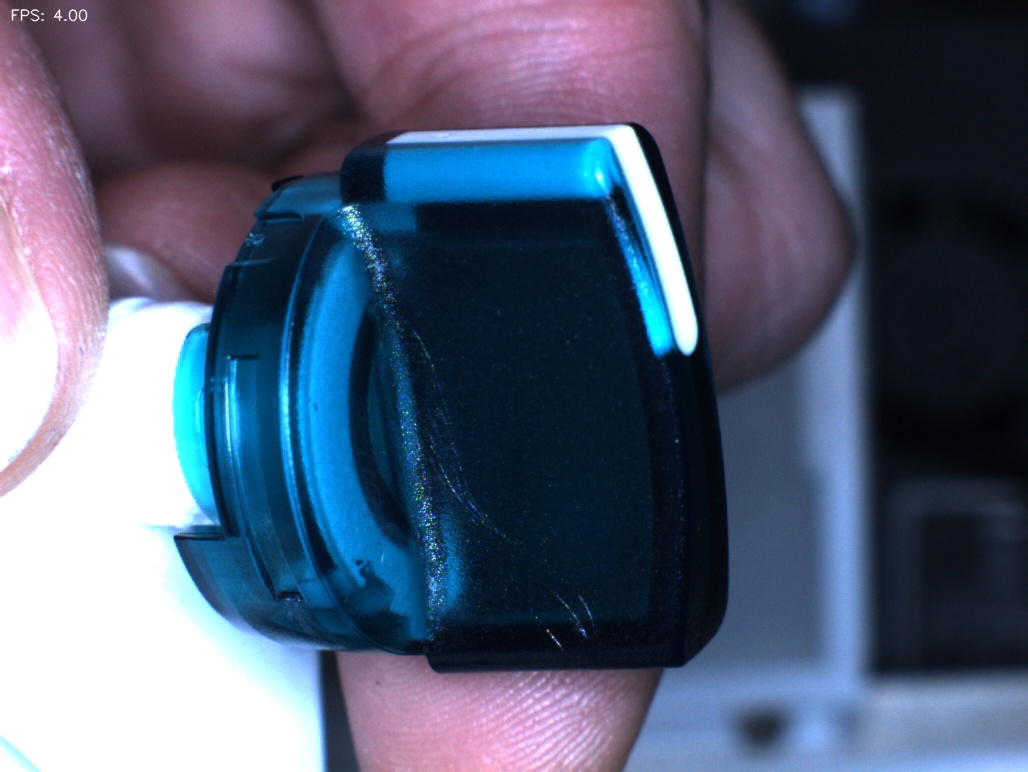Givrage: (382, 303, 497, 528)
